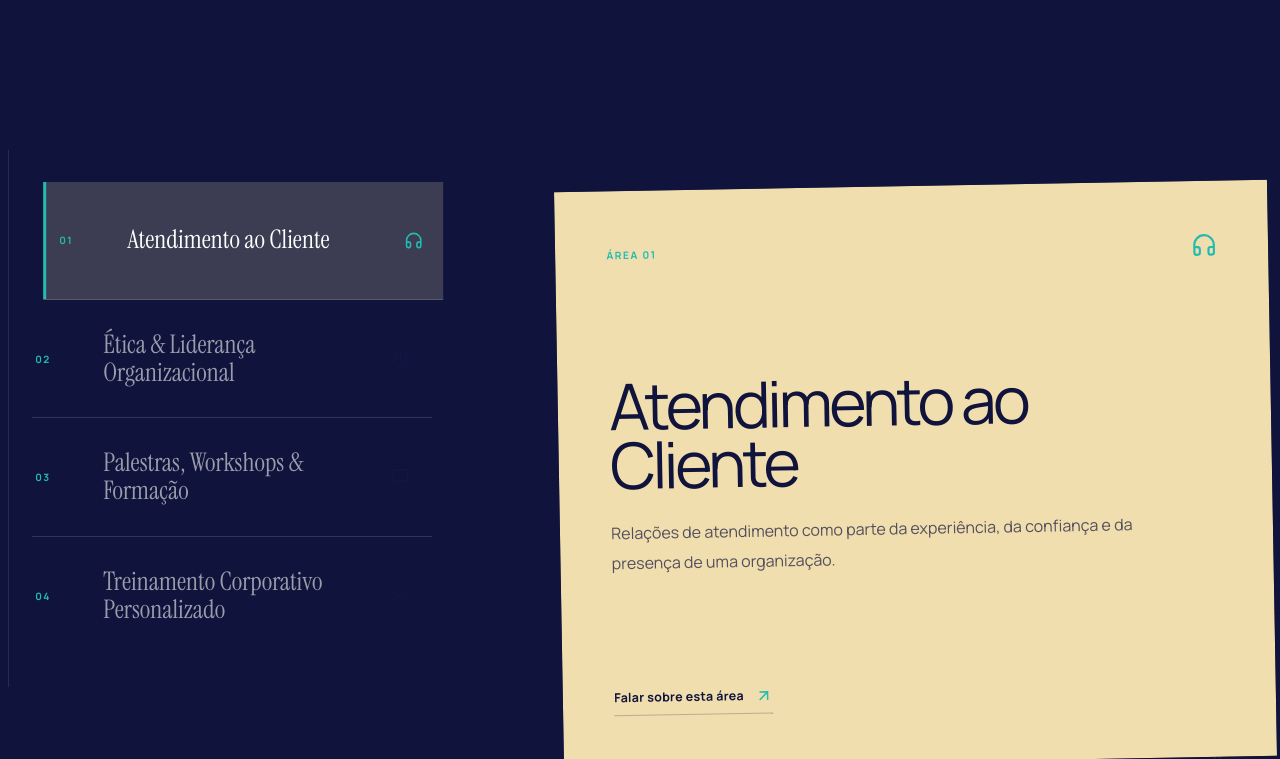
Test case: public services › lets visitors focus a confirmed area before requesting contact
The image size is (1280, 759).
(page scrolled)
Step 1. Click the button "02 Ética & Liderança Organizacional" → (232, 359), box [32, 300, 432, 418]
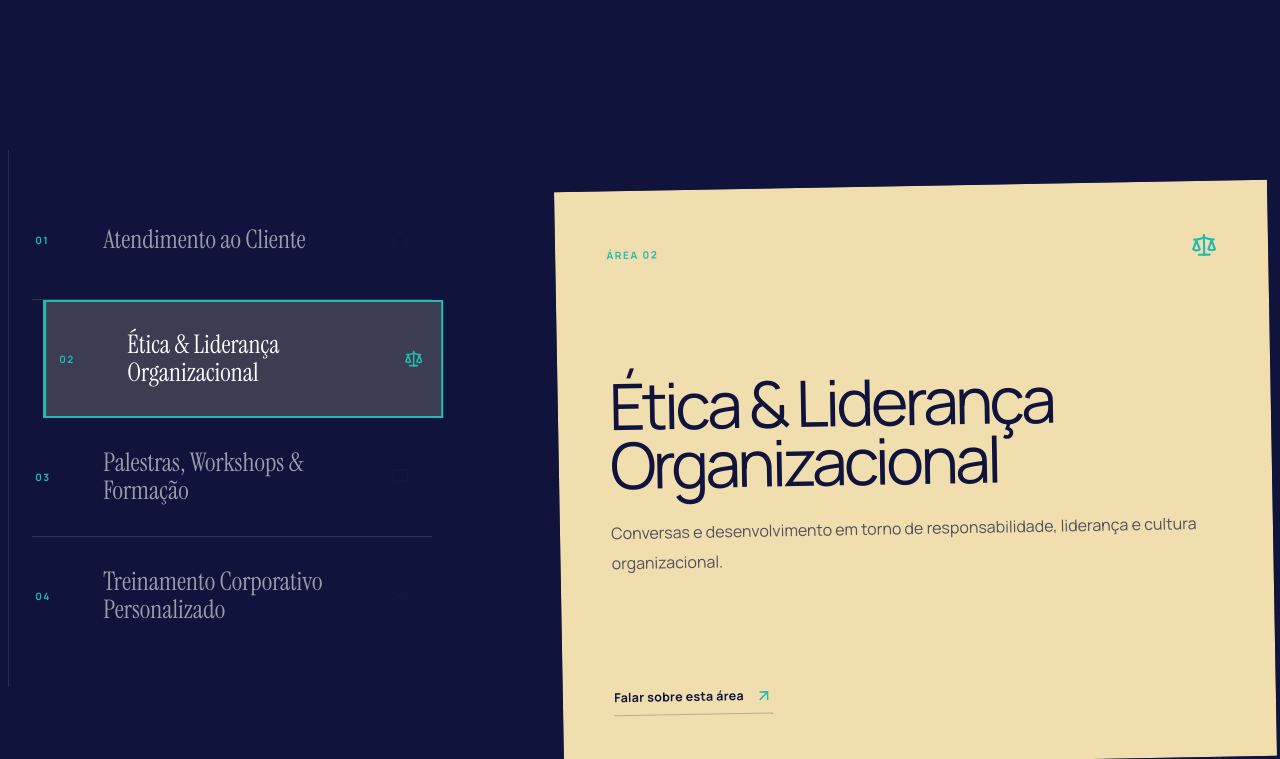
Result: the heading "Ética & Liderança Organizacional" is shown at [609, 370, 1079, 496]
